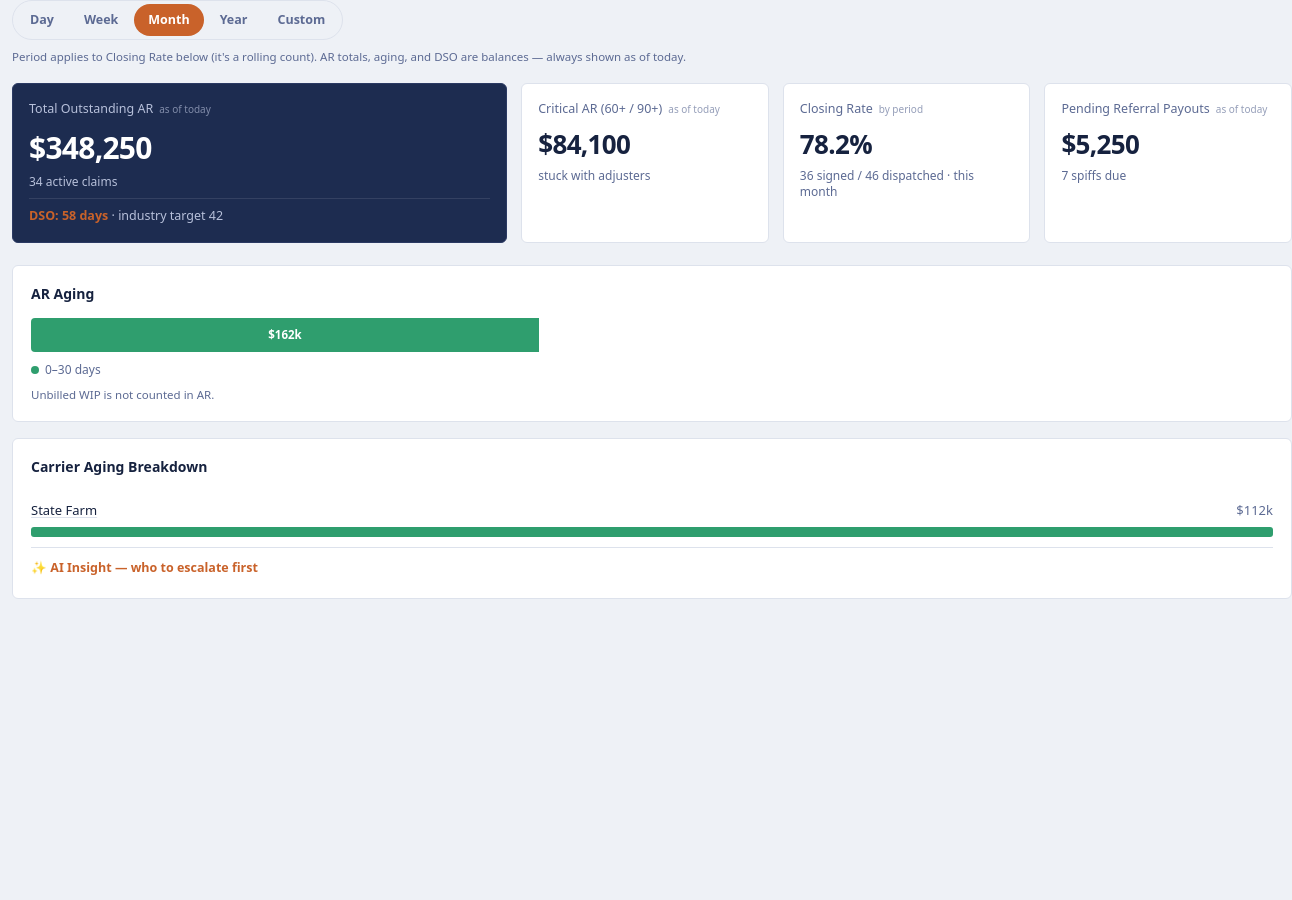
ExecutiveView › renders the carrier-escalation AI insight and keeps it collapsed by default
Expected: the text "Escalate the Temecula slab-leak claim" is not shown
Click the button "✨ AI Insight — who to escalate first": (144, 564) [31,548,258,580]
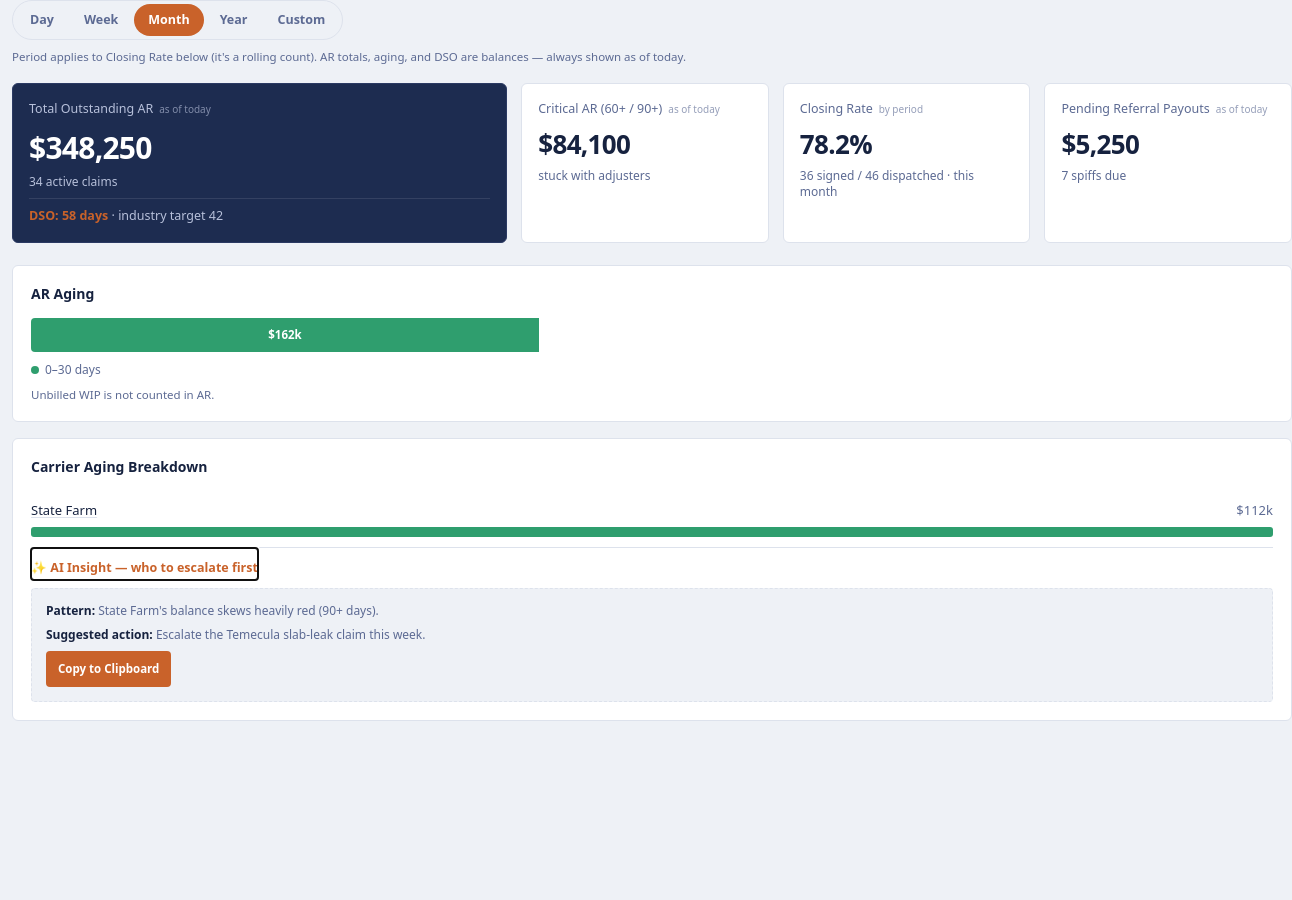
Now the text "Escalate the Temecula slab-leak claim" is shown, box [156,626,426,642]
